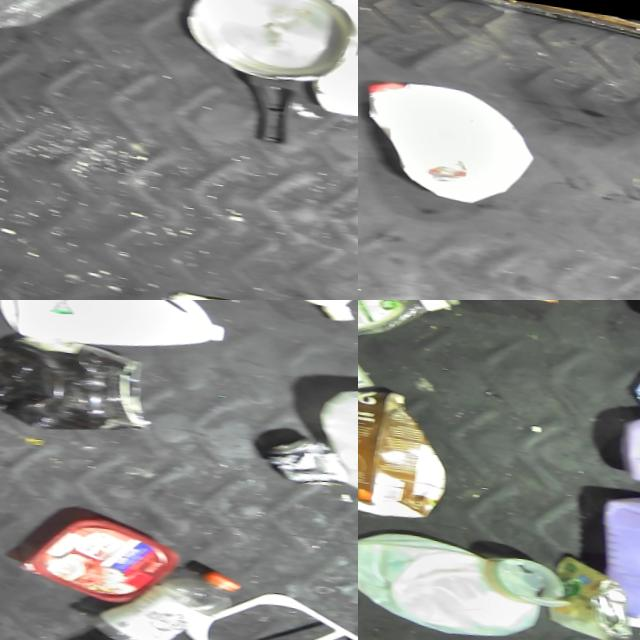can: (553, 555, 628, 640), (261, 426, 350, 485)
milk_jug: (358, 518, 559, 640), (0, 300, 231, 362), (309, 370, 358, 494), (306, 37, 358, 129)
non_white_jug: (358, 69, 540, 206), (0, 324, 153, 441), (590, 485, 640, 630)
plastic_bottle: (88, 549, 240, 640), (358, 300, 460, 363)
